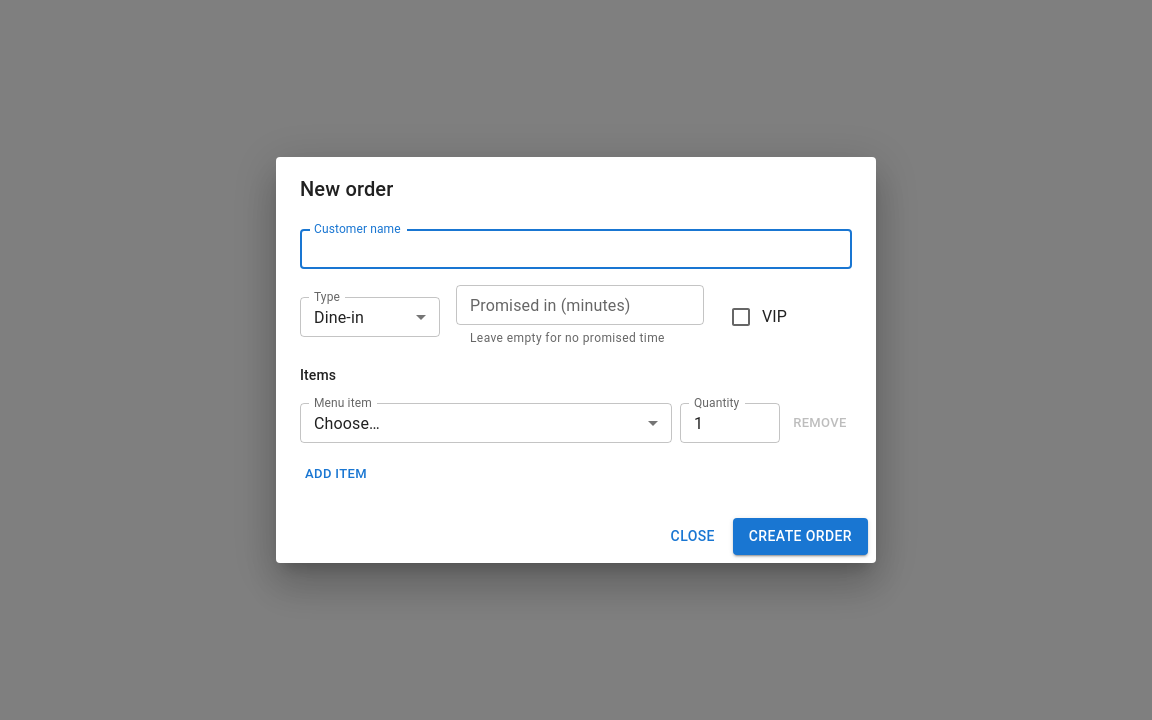
Test: NewOrderDialog › can add and remove item rows
Click the button "Add item": {"x": 336, "y": 475} [300,459,372,490]
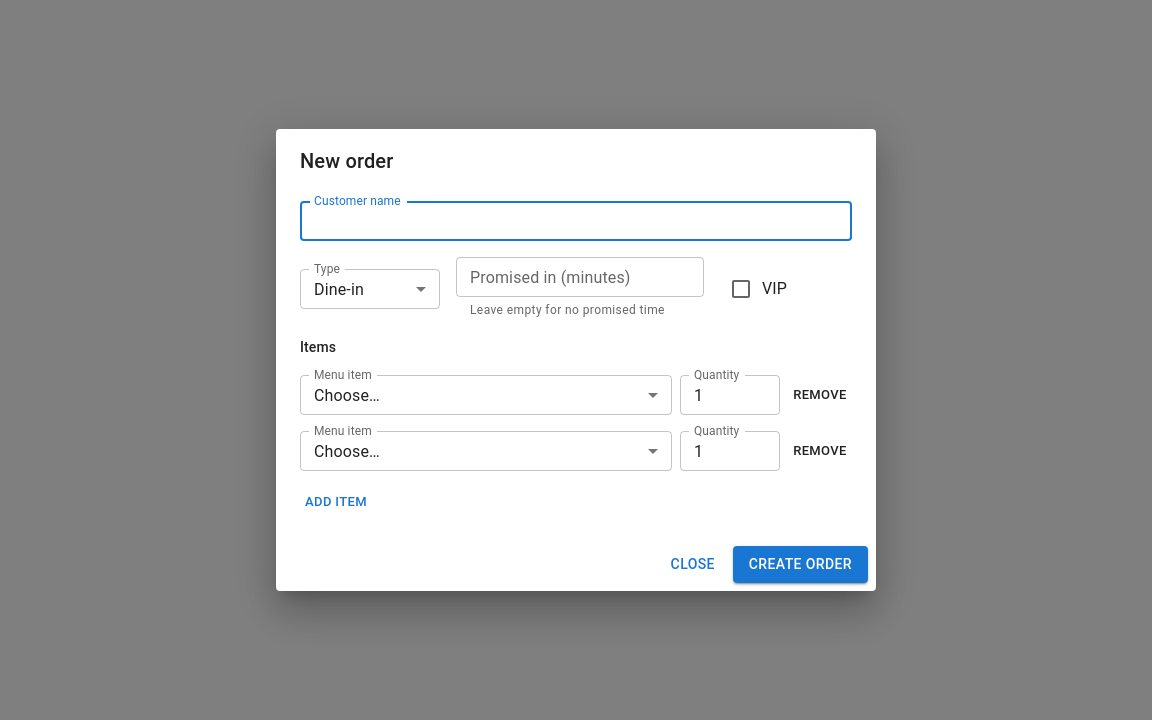
expect the number of dropdowns labelled "Menu item" is 2: met, box [300,375,672,415]; [300,431,672,471]
Click the 1st button "Remove": {"x": 820, "y": 395} [788,380,852,411]
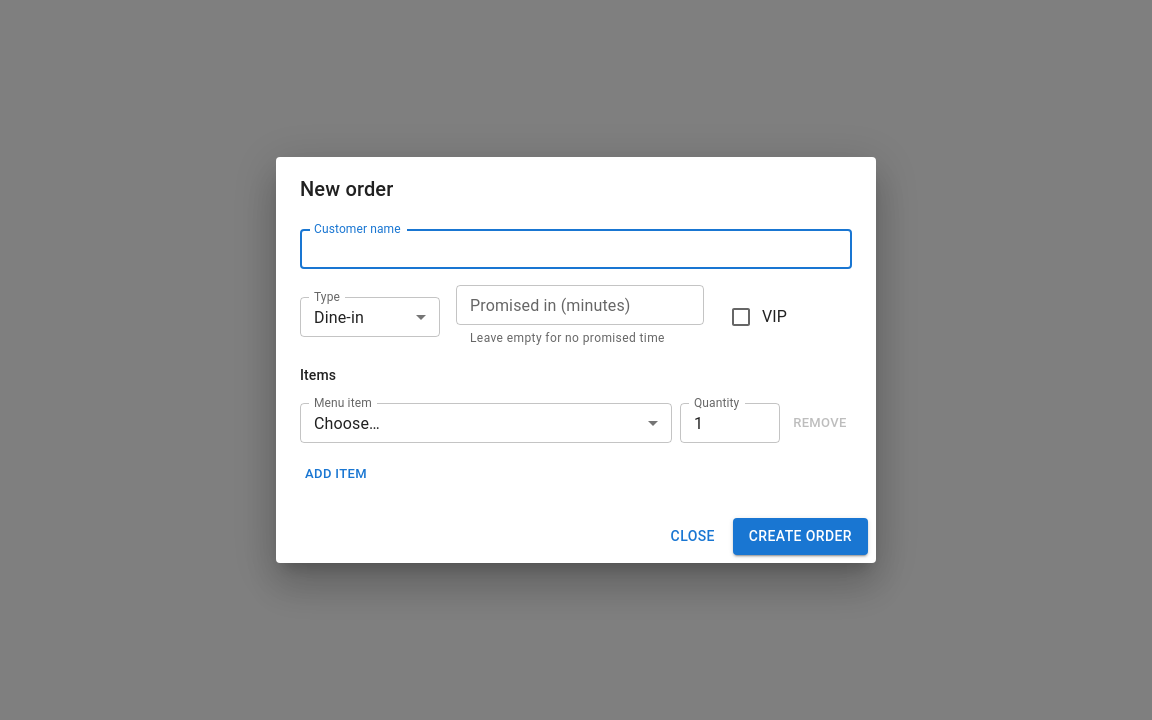
expect the number of dropdowns labelled "Menu item" is 1: met, box [300,403,672,443]
